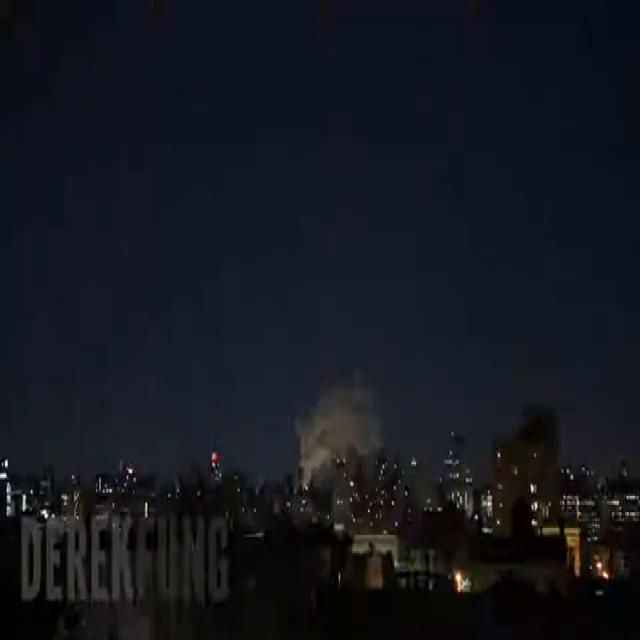smoke: (296, 377, 383, 487)
